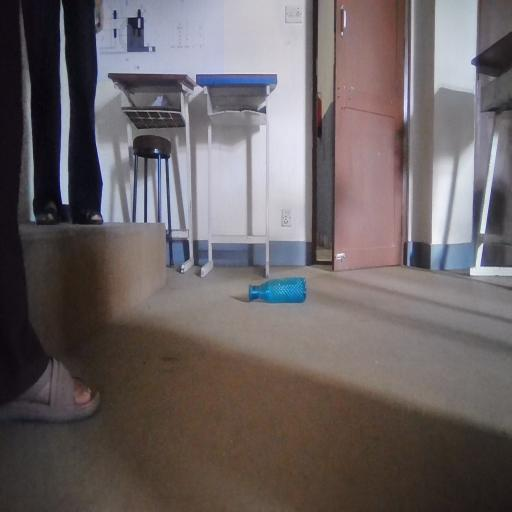Bottle: (242, 250, 323, 318)
